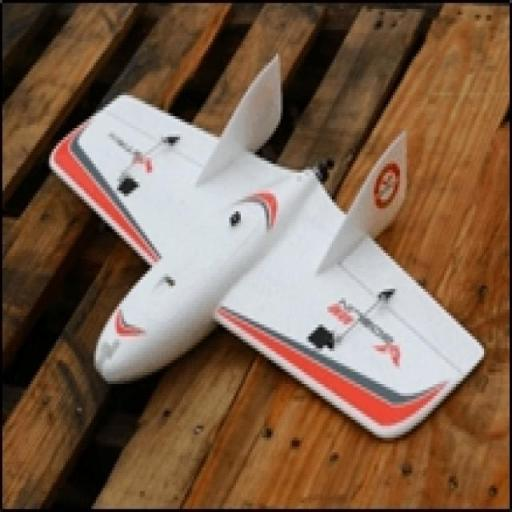uav: (37, 48, 491, 461)
